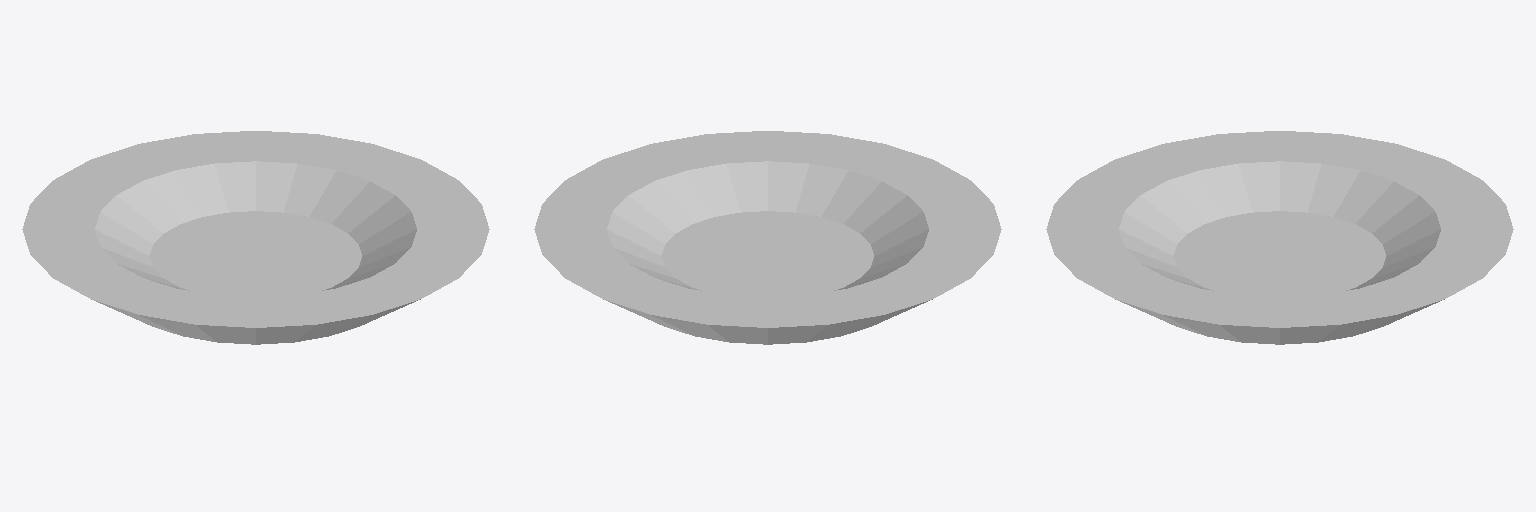
The model's file is detailPlate.obj.
3 renders of one model, left to right at view 1: azimuth 30°, elevation 25°; view 2: azimuth 150°, elevation 25°; view 3: azimuth 270°, elevation 25°, orthographic.
Visible parts, largest first — view 1: detailPlate; view 2: detailPlate; view 3: detailPlate.
Boxes of the visible parts, <box> form: detailPlate: <box>22,131,489,344</box>; detailPlate: <box>534,131,1001,344</box>; detailPlate: <box>1046,131,1513,344</box>.
Size of the model in its own units: 2.13 by 0.268 by 2.13.